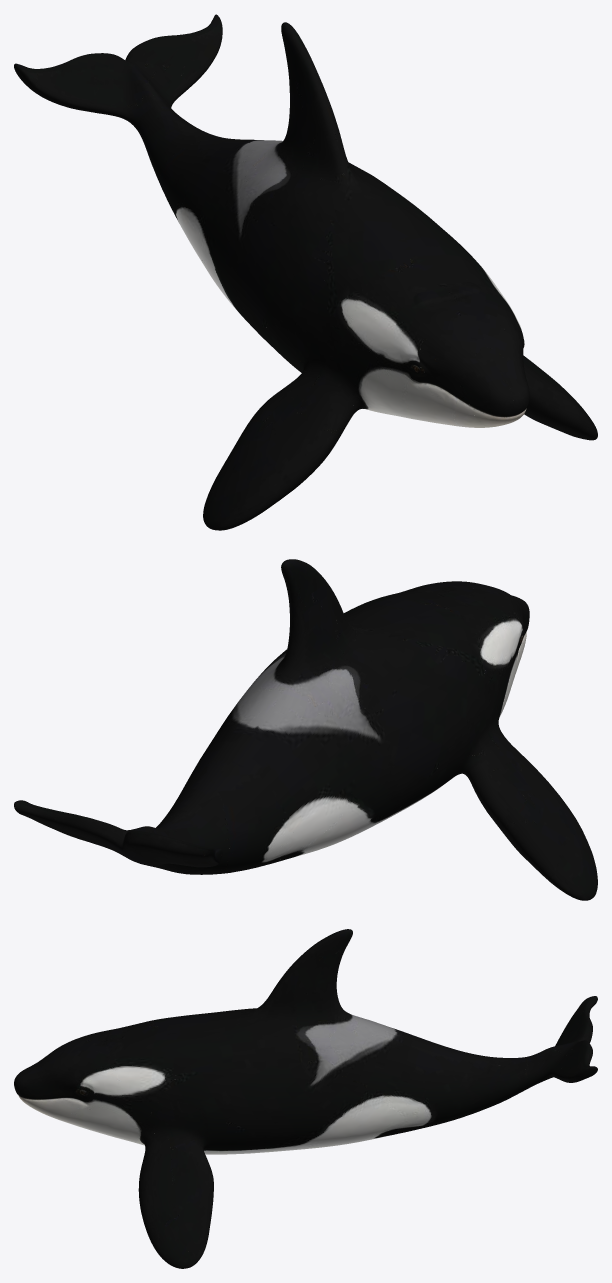
File: orca.glb
The picture shows the model from 3 angles, top to bottom: view 1: azimuth 30°, elevation 25°; view 2: azimuth 150°, elevation 25°; view 3: azimuth 270°, elevation 25°; orthographic projection. The views are drawn at different scales.
Visible parts, largest first — view 1: orca; view 2: orca; view 3: orca.
Boxes of the visible parts, x1=… form: orca: x1=14, y1=14, x2=597, y2=530; orca: x1=14, y1=559, x2=597, y2=900; orca: x1=14, y1=929, x2=597, y2=1268.
Bounding box in the file's own units: 3.87 × 3.6 × 7.
1 material, 1 textured.
